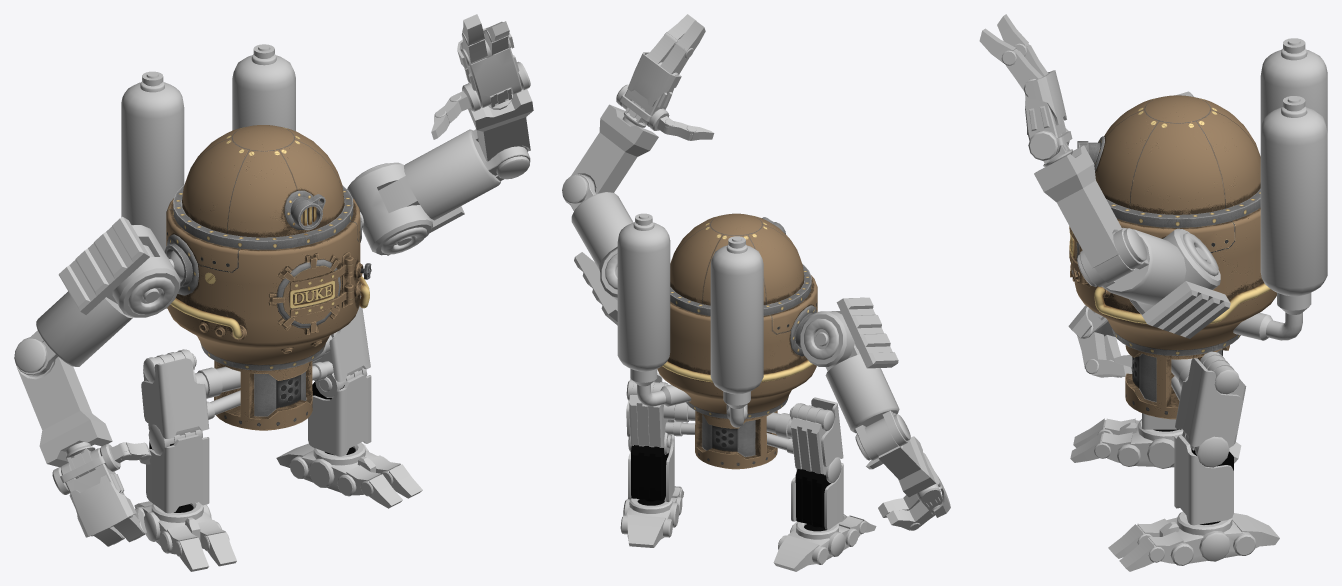
3 views of the same model, side by side, from view 1: azimuth 30°, elevation 25°; view 2: azimuth 150°, elevation 25°; view 3: azimuth 270°, elevation 25° (orthographic). The views are drawn at different scales.
Parts seen in each view (by area): view 1: Limbs R Low, Body Low, Limbs L Low; view 2: Limbs R Low, Limbs L Low, Body Low; view 3: Limbs L Low, Body Low, Limbs R Low.
Boxes of the visible parts, <box> form: Limbs R Low: <box>14,71,240,571</box>; Body Low: <box>164,125,371,430</box>; Limbs L Low: <box>232,14,533,508</box>; Limbs R Low: <box>710,236,950,571</box>; Limbs L Low: <box>562,14,714,547</box>; Body Low: <box>657,213,817,469</box>; Limbs L Low: <box>979,14,1327,571</box>; Body Low: <box>1069,95,1276,419</box>; Limbs R Low: <box>1068,38,1327,468</box>.
Bounding box in the file's own units: 415 × 453 × 258.
